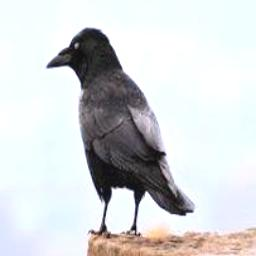Crow: (45, 26, 195, 237)
